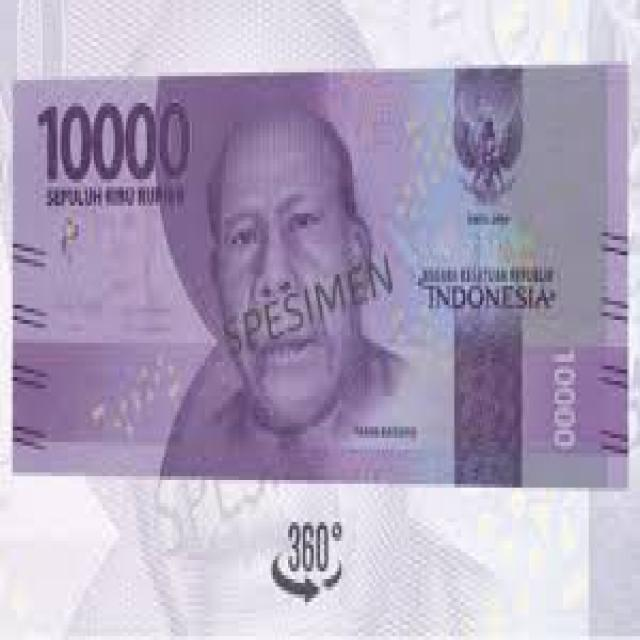sepuluh ribu rupiah: (13, 82, 626, 474)
